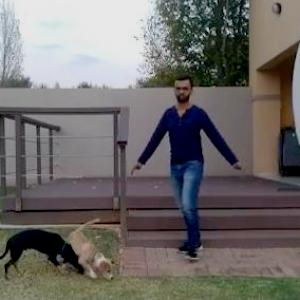land: (133, 77, 247, 264)
